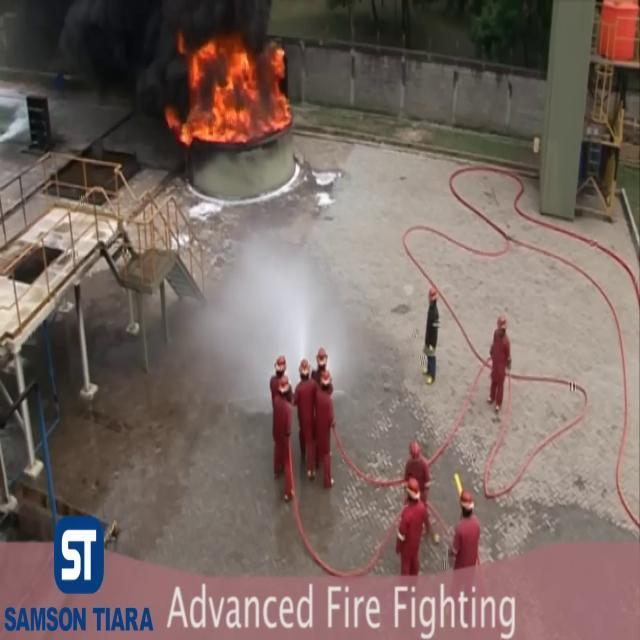Fire: (172, 28, 296, 158)
